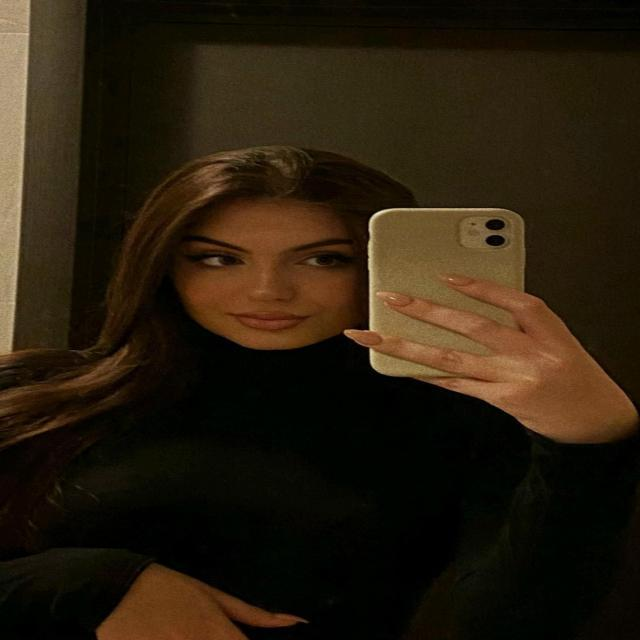phone: (369, 208, 527, 378)
